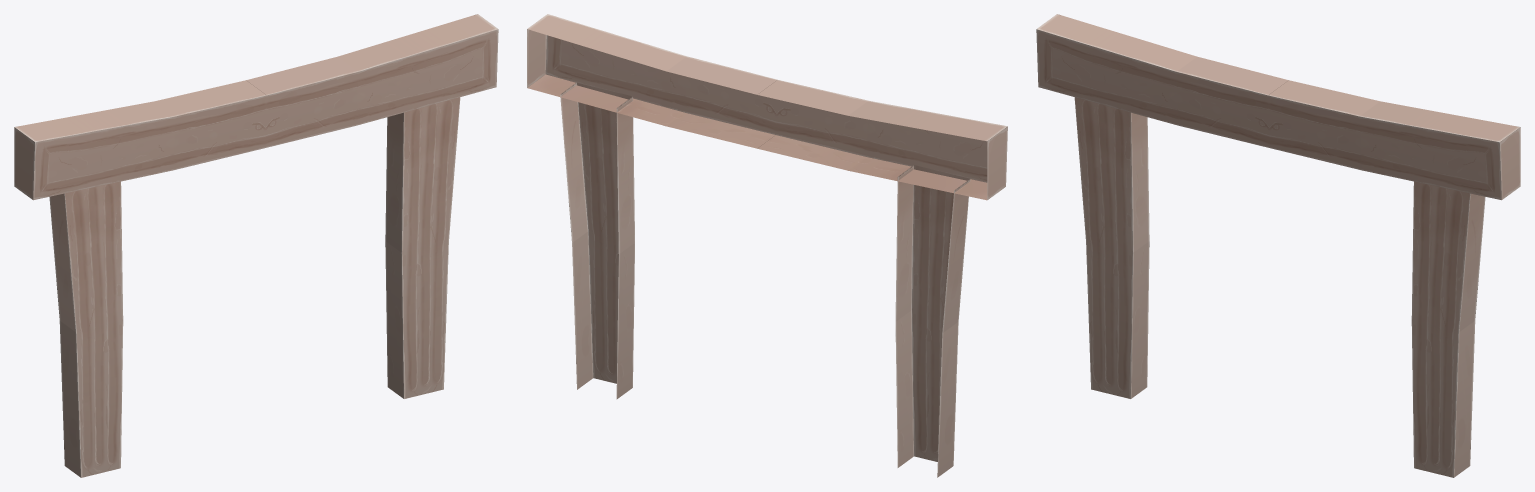
Rendered from DoorFrame.fbx.
3 renders of one model, left to right at view 1: azimuth 30°, elevation 25°; view 2: azimuth 150°, elevation 25°; view 3: azimuth 330°, elevation 25°, orthographic.
Parts seen in each view (by area): view 1: DoorFrame; view 2: DoorFrame; view 3: DoorFrame.
Boxes of the visible parts, left/top/right/bottom form: DoorFrame: left=14, top=14, right=498, bottom=477; DoorFrame: left=527, top=14, right=1007, bottom=477; DoorFrame: left=1036, top=14, right=1520, bottom=477.
Bounding box in the file's own units: 10.93 × 7.91 × 0.8482.
